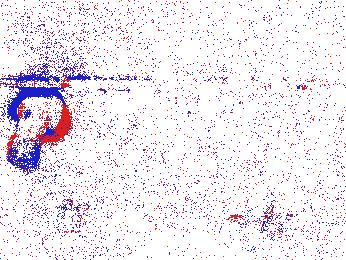flame jellyfish: (5, 89, 69, 173), (214, 198, 295, 260), (41, 196, 103, 260)
